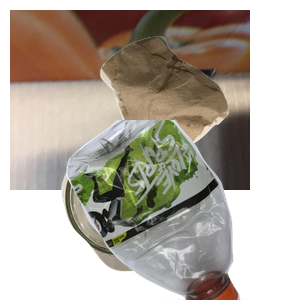cardboard: (10, 10, 250, 190)
glass: (59, 135, 254, 300)
plastic: (64, 120, 300, 300)
trash: (98, 34, 300, 211)
